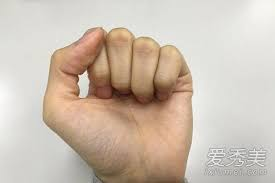fist: (40, 23, 200, 183)
